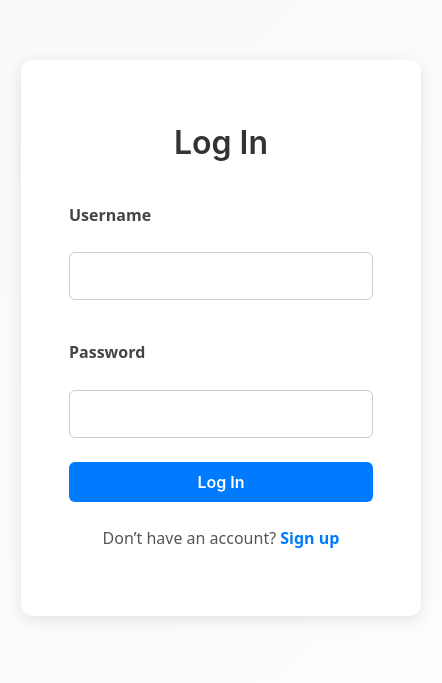
Scenario: failed login: empty input in both or one
This screenshot has width=442, height=683.
Clear the field labelled "Username" at (221, 276), box [69,252,373,300]
Clear the password field labelled "Password" at (221, 414), box [69,390,373,438]
// both empty
Click the button at (221, 482), box [69,462,373,502]
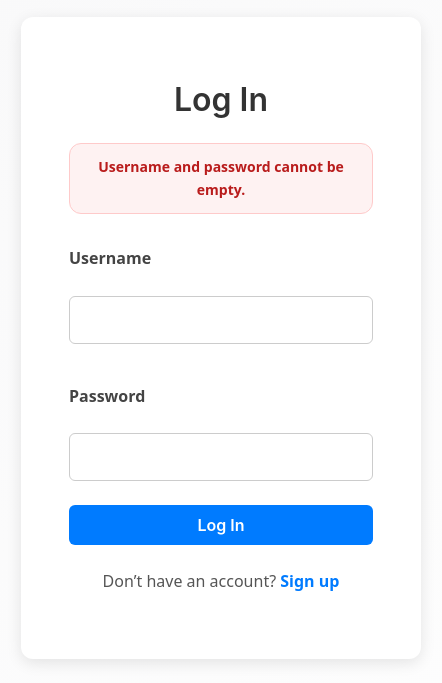
Now the text "Username and password cannot be empty." is shown, box [69,143,373,214]
// only user empty
Type "wowzaaaaa" into the password field labelled "Password" at (221, 457), box [69,433,373,481]
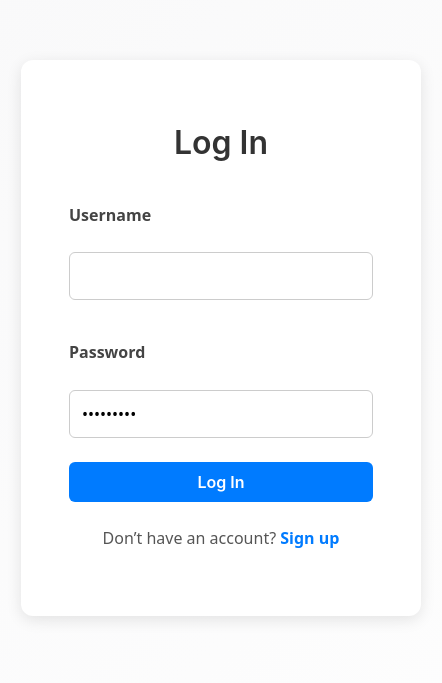
Click the button at (221, 482), box [69,462,373,502]
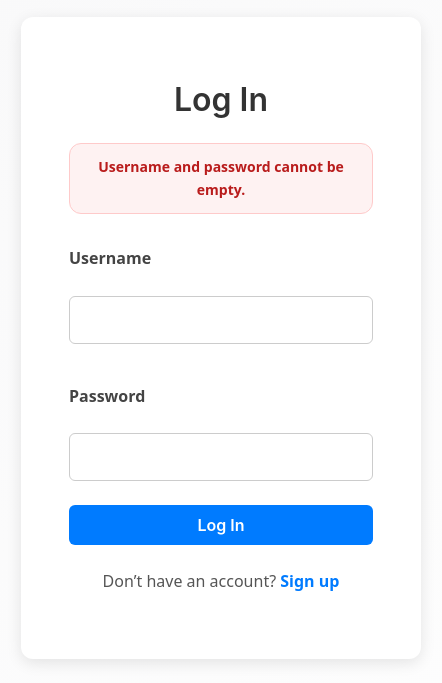
Now the text "Username and password cannot be empty." is shown, box [69,143,373,214]
Type "wowzaaaaa" into the field labelled "Username" at (221, 320), box [69,296,373,344]
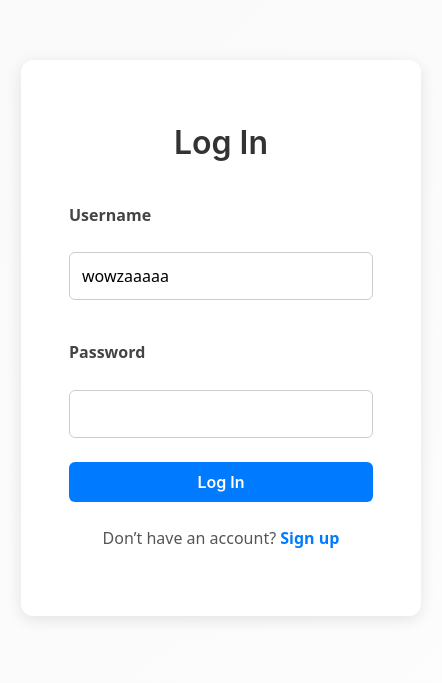
Click the button at (221, 482), box [69,462,373,502]
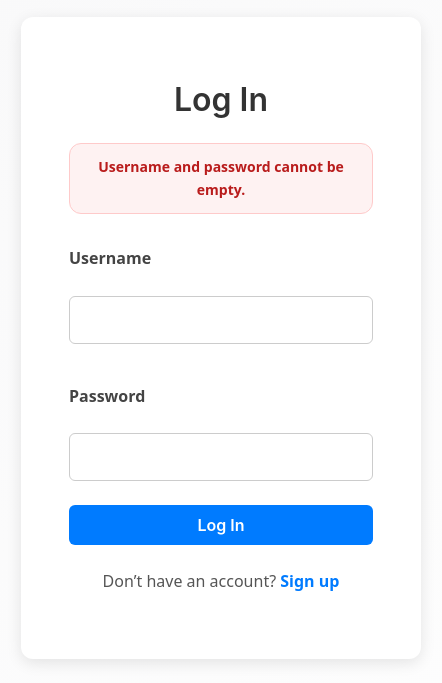
Now the text "Username and password cannot be empty." is shown, box [69,143,373,214]
